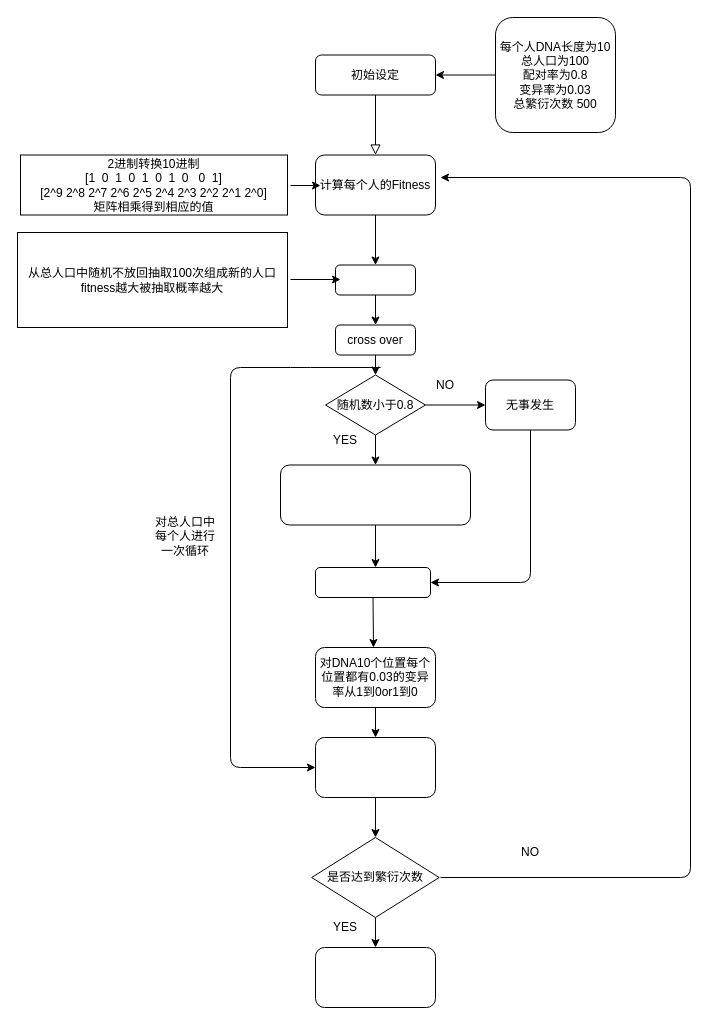
This 716x1025 diagram has some shape labels left out. Each missing label, with the box of its shape:
mutate: (314, 566, 430, 598)
select: (334, 264, 416, 295)
形成新的人口: (314, 736, 436, 798)
输出人口中fitness最高的个人: (314, 946, 436, 1008)
随机选取一个总人口中的人 10个DNA位置随机选择保留位置与被替换位置 形成新的一个child: (280, 464, 470, 525)
